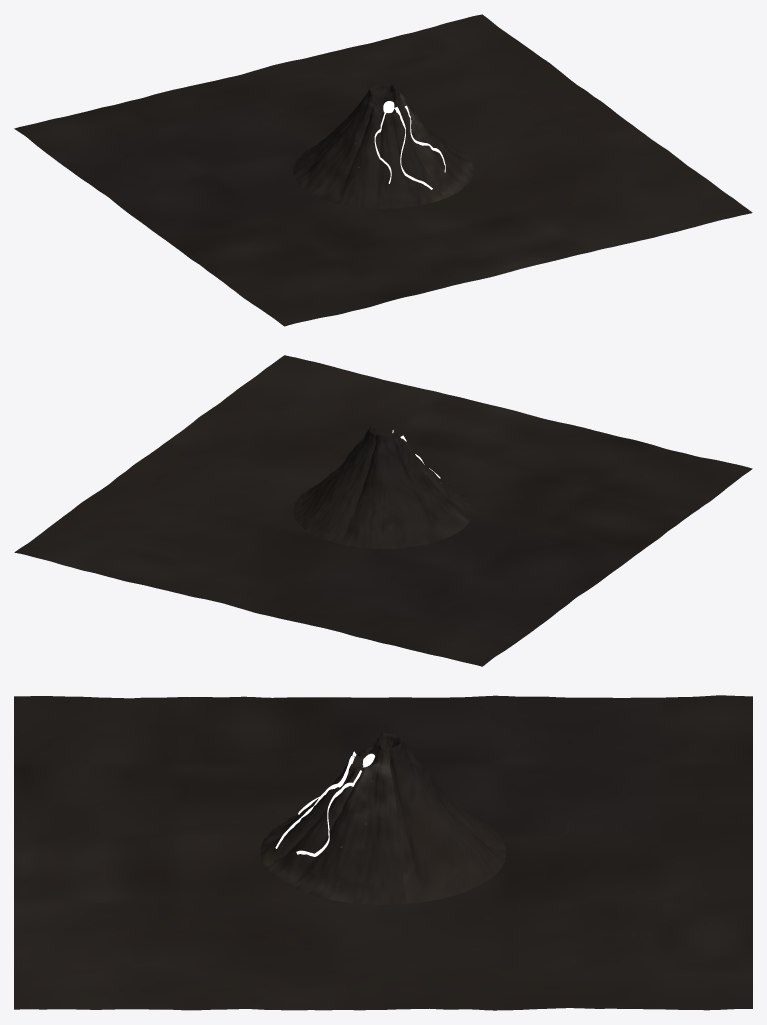
3 renders of one model, top to bottom at view 1: azimuth 30°, elevation 25°; view 2: azimuth 150°, elevation 25°; view 3: azimuth 270°, elevation 25°, orthographic. The views are drawn at different scales.
Visible parts, largest first — view 1: Ground.001, Volcano.001; view 2: Ground.001, Volcano.001; view 3: Ground.001, Volcano.001.
Boxes of the visible parts, bbox=[...] form: Ground.001: bbox=[14, 14, 752, 326]; Volcano.001: bbox=[293, 83, 473, 208]; Ground.001: bbox=[14, 355, 752, 666]; Volcano.001: bbox=[293, 426, 473, 548]; Ground.001: bbox=[14, 695, 752, 1010]; Volcano.001: bbox=[260, 733, 506, 904].
Size of the model in its own units: 2400 by 411 by 2400.
5 materials, 2 textured.
